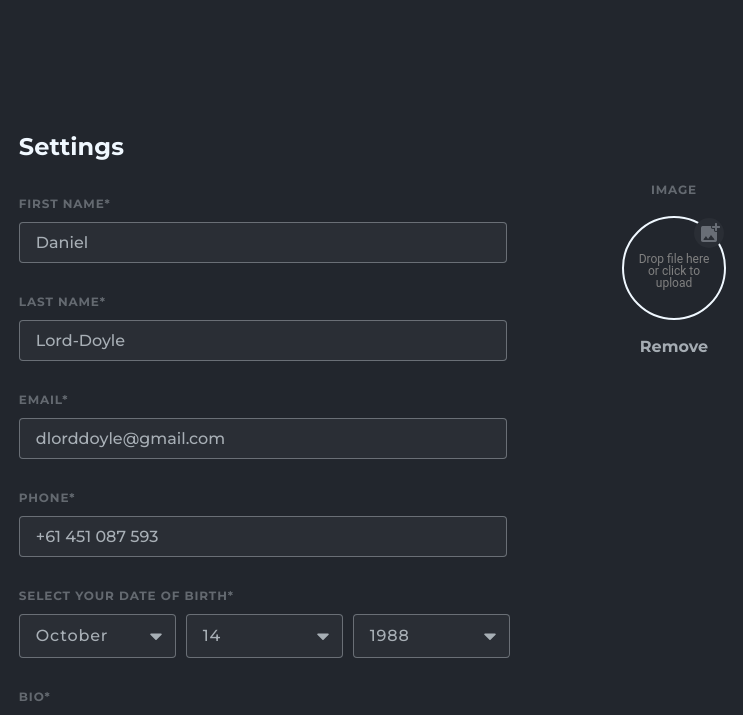
The DOB datepicker input › will reset the month if I press the discard button
Click the button with test id "monthButton" at [97, 636], box [19,614,176,658]
(page scrolled)
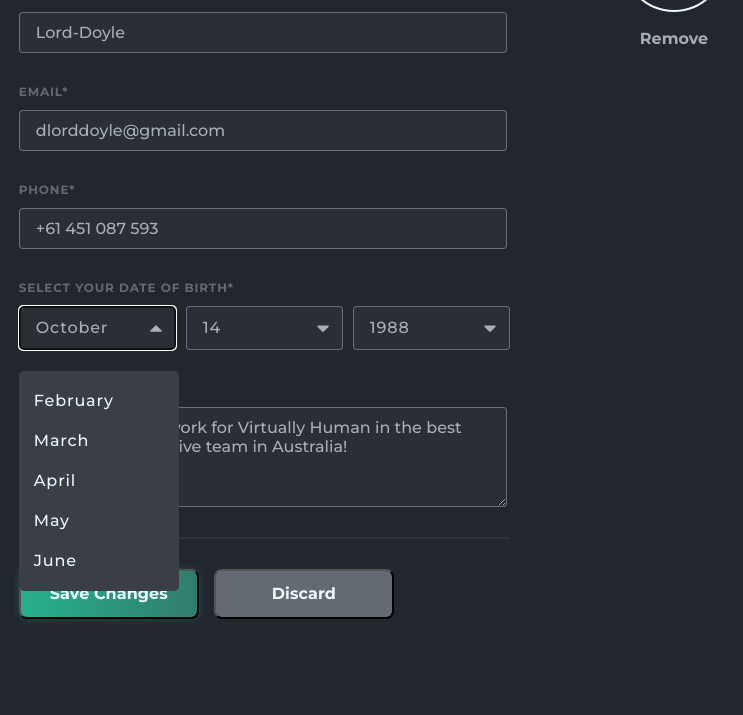
Click the text "April" at [55, 481], box [34,471,76,490]
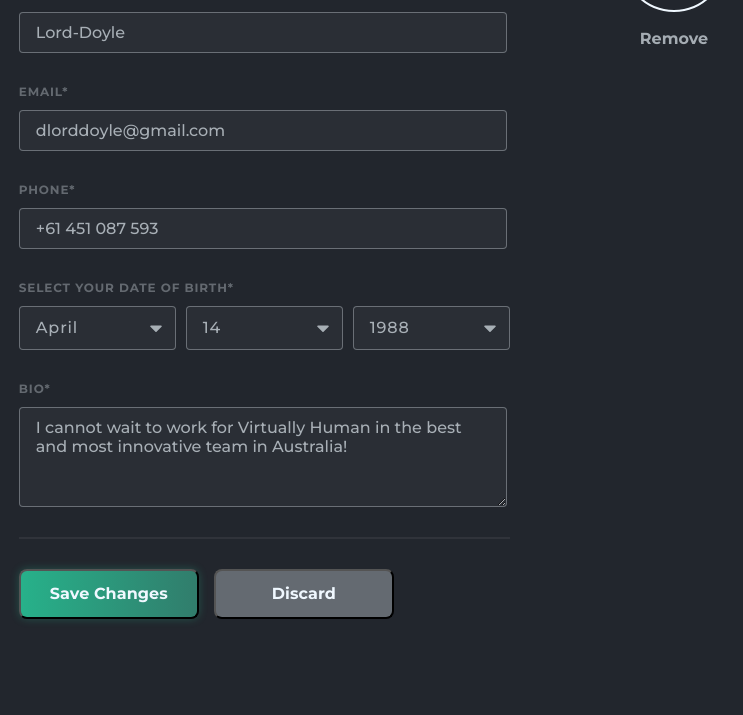
Now the button with test id "monthButton" reads "April", box [36,318,78,337]
Click the button "Discard" at [304, 594], box [214,568,394,618]
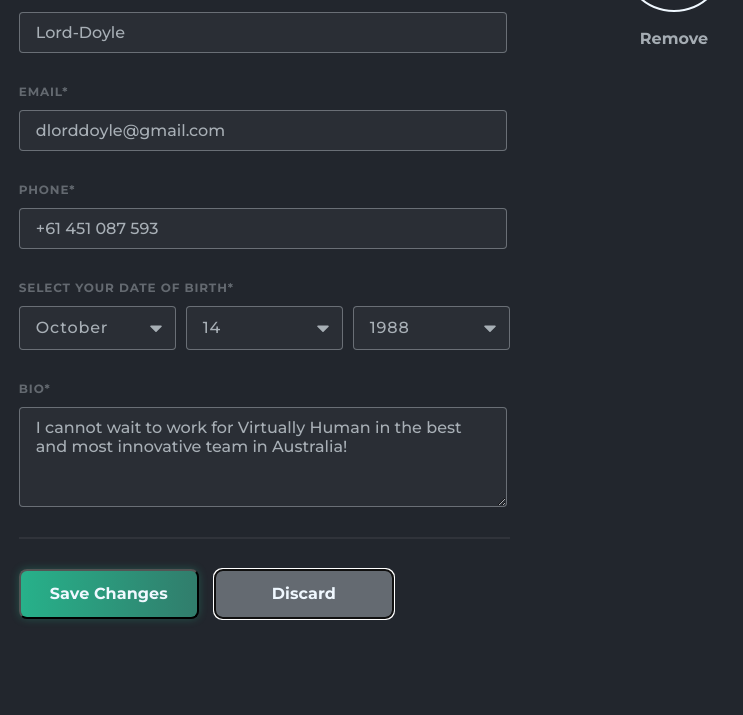
Now the button with test id "monthButton" reads "October", box [36,318,108,337]
